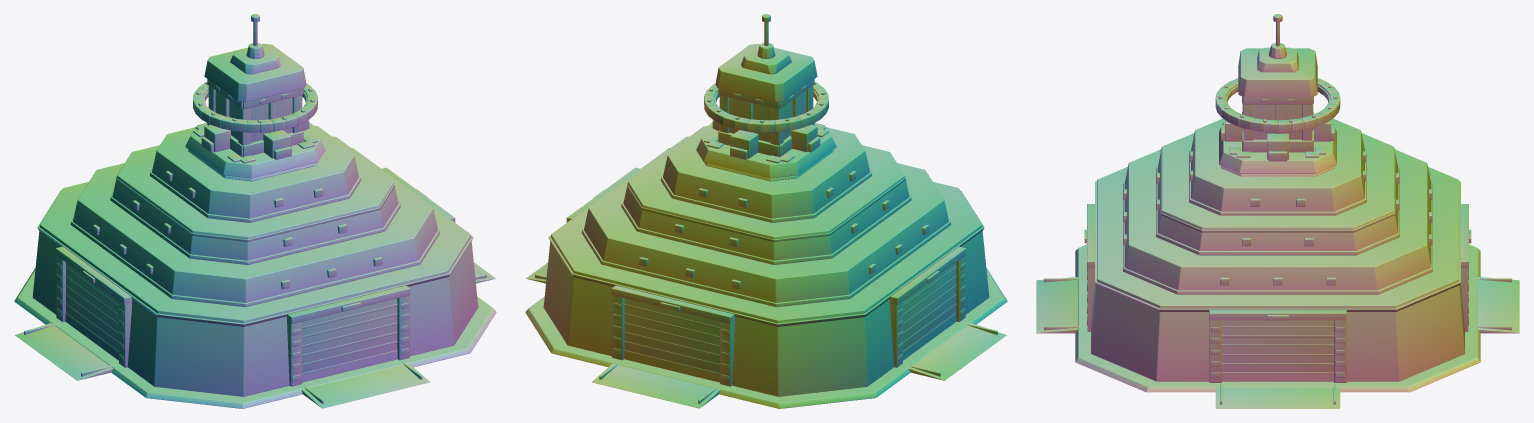
The model's file is hq_t2_rig.glb.
3 views of the same model, side by side, from view 1: azimuth 30°, elevation 25°; view 2: azimuth 150°, elevation 25°; view 3: azimuth 270°, elevation 25° (orthographic).
Visible parts, largest first — view 1: body, spin_ring_0, door_0, door_2; view 2: body, spin_ring_0, door_3, door_2; view 3: body, spin_ring_0, door_1.
Part boxes in pixels (bbox=[...]): body: bbox=[14, 14, 496, 408]; spin_ring_0: bbox=[193, 82, 317, 132]; door_0: bbox=[302, 304, 397, 374]; door_2: bbox=[65, 267, 118, 352]; body: bbox=[525, 14, 1007, 408]; spin_ring_0: bbox=[704, 82, 828, 132]; door_3: bbox=[624, 304, 719, 374]; door_2: bbox=[903, 267, 956, 352]; body: bbox=[1036, 14, 1519, 408]; spin_ring_0: bbox=[1215, 78, 1340, 132]; door_1: bbox=[1222, 326, 1333, 374].
Size of the model in its own units: 62 by 41.2 by 62.
